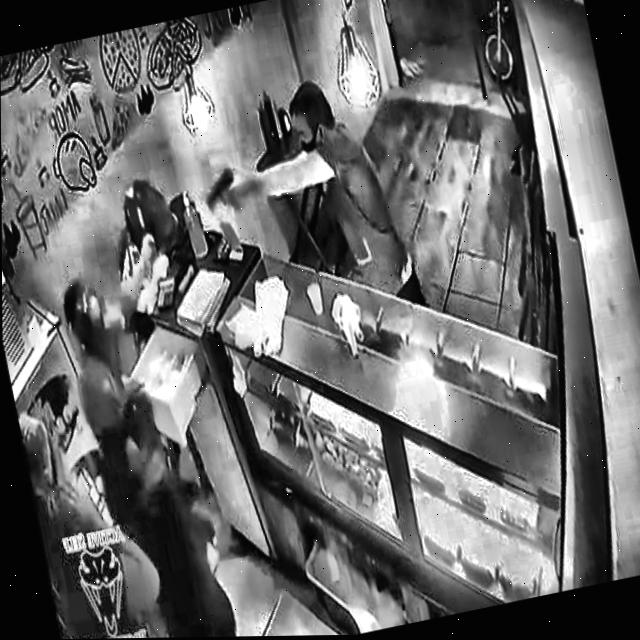robbery: (54, 71, 429, 638)
